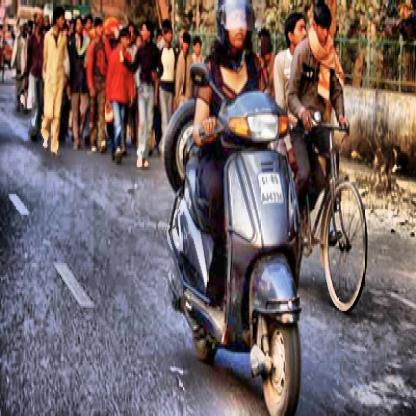not_wear: (313, 3, 332, 51), (288, 16, 303, 60)
wear: (214, 0, 249, 67)
